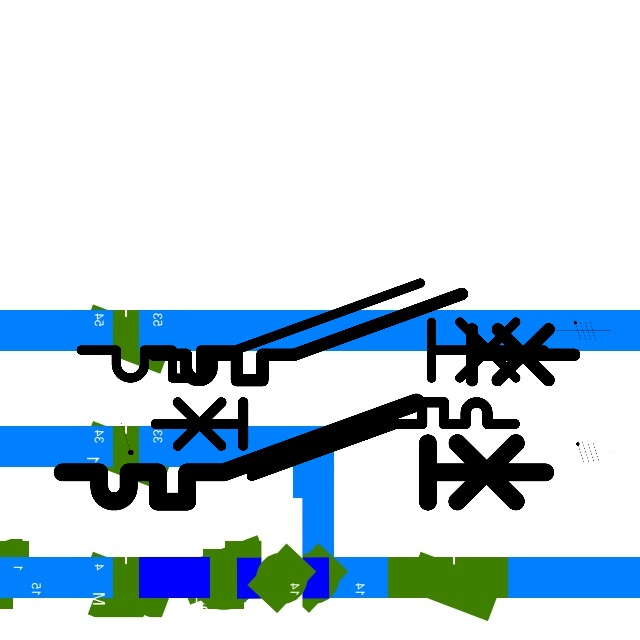interruptor_termomagnetico: (50, 390, 558, 514), (69, 271, 556, 390), (143, 283, 585, 391), (146, 393, 523, 485)
